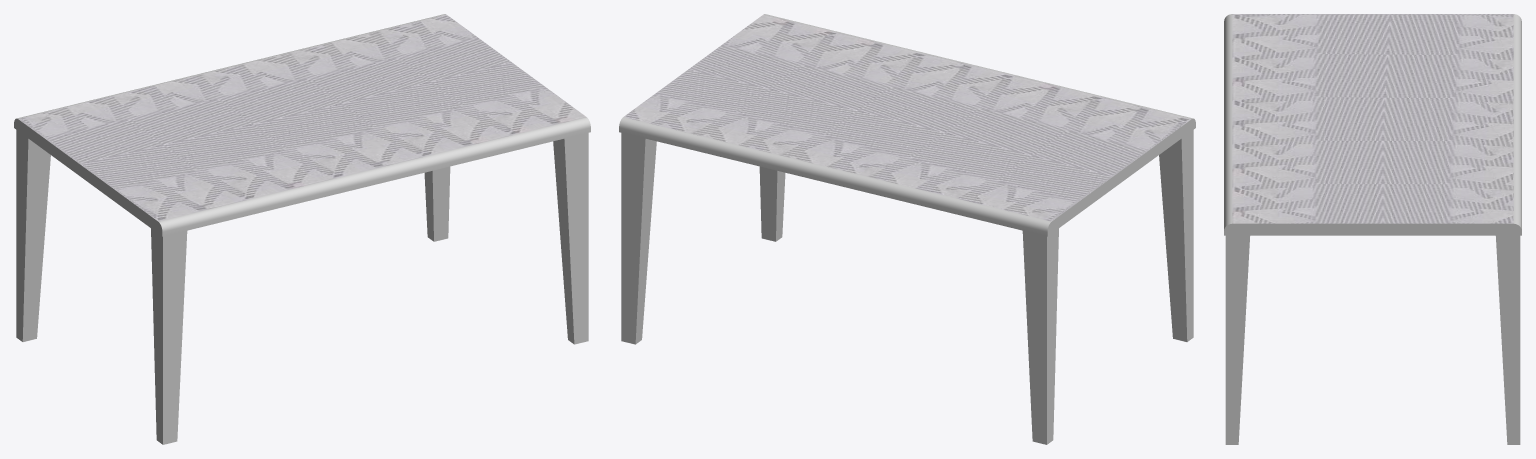
The model's file is alpha_table_white.fbx.
3 views of the same model, side by side, from view 1: azimuth 30°, elevation 25°; view 2: azimuth 150°, elevation 25°; view 3: azimuth 270°, elevation 25° (orthographic).
Parts seen in each view (by area): view 1: alpha_table_white.001, alpha_table_white; view 2: alpha_table_white.001, alpha_table_white; view 3: alpha_table_white.001, alpha_table_white.
Boxes of the visible parts, x1,y1,x2,y2 form: alpha_table_white.001: [18, 14, 586, 221]; alpha_table_white: [14, 14, 590, 444]; alpha_table_white.001: [623, 14, 1191, 221]; alpha_table_white: [619, 14, 1195, 444]; alpha_table_white.001: [1232, 14, 1513, 223]; alpha_table_white: [1224, 14, 1521, 444].
Bounding box in the file's own units: 150 × 74.01 × 90.
2 materials, 1 textured.
